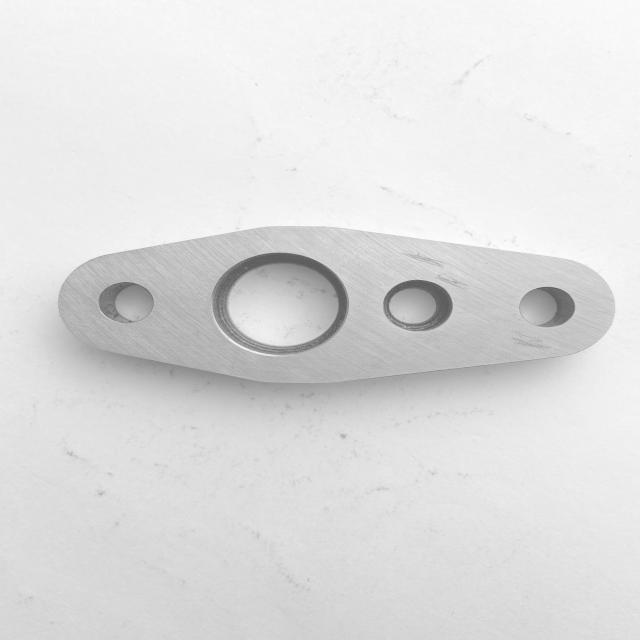lines: (504, 330, 549, 351), (400, 252, 448, 266), (438, 272, 472, 288)
